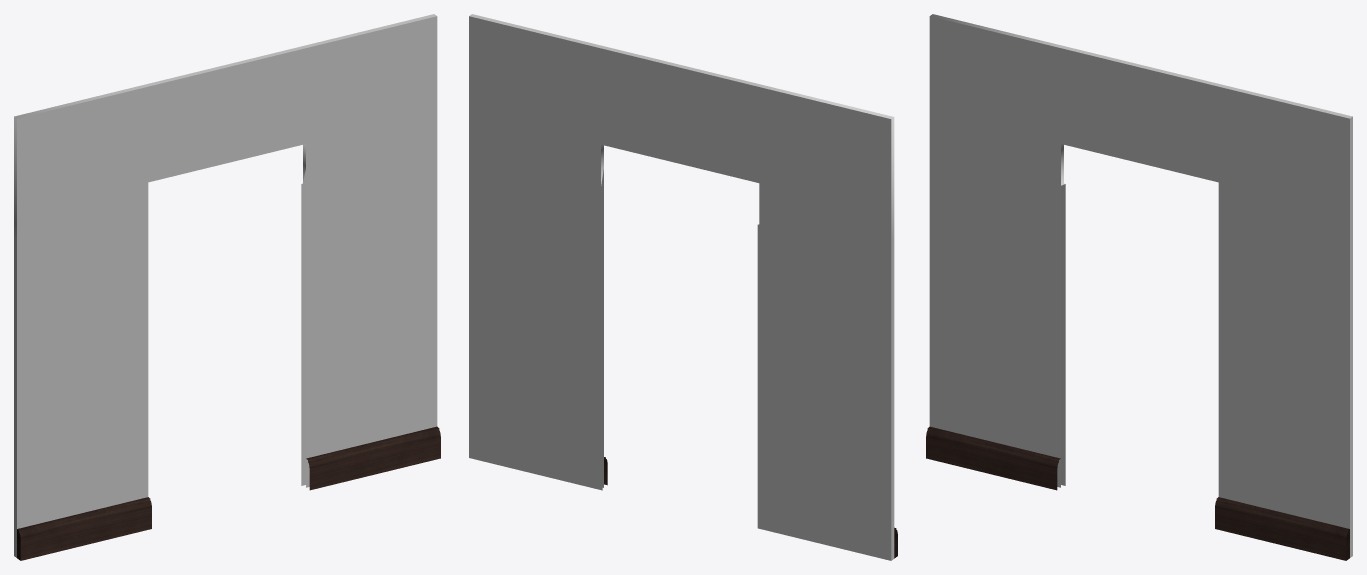
Rendered from R1_DoorWay.fbx.
3 renders of one model, left to right at view 1: azimuth 30°, elevation 25°; view 2: azimuth 150°, elevation 25°; view 3: azimuth 330°, elevation 25°, orthographic.
Parts seen in each view (by area): view 1: SM_Wall02_Hole_small_NoLedge_Cut_LOD0; view 2: SM_Wall02_Hole_small_NoLedge_Cut_LOD0; view 3: SM_Wall02_Hole_small_NoLedge_Cut_LOD0.
Boxes of the visible parts, box(x1,y1,x2,y2) form: SM_Wall02_Hole_small_NoLedge_Cut_LOD0: box(14, 14, 440, 560); SM_Wall02_Hole_small_NoLedge_Cut_LOD0: box(469, 14, 897, 560); SM_Wall02_Hole_small_NoLedge_Cut_LOD0: box(926, 14, 1352, 560).
Bounding box in the file's own units: 400 × 400 × 10.92.
